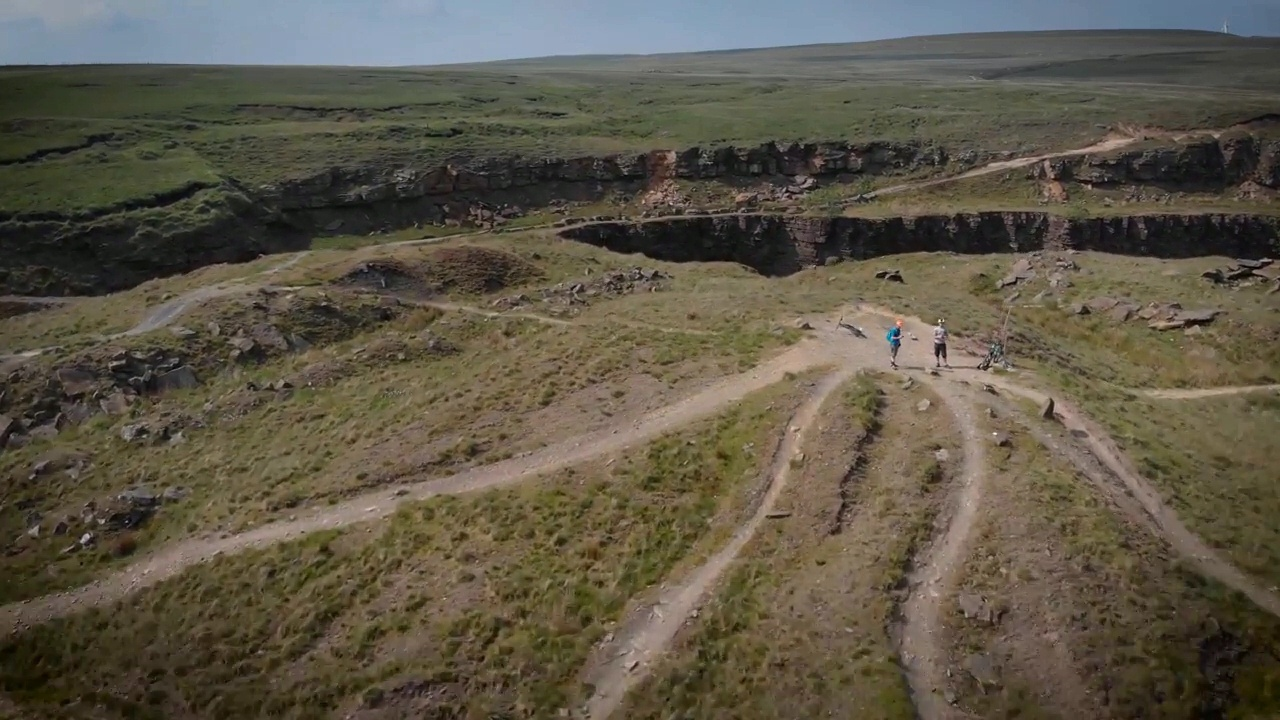insan: (933, 317, 953, 368), (887, 320, 904, 370)
